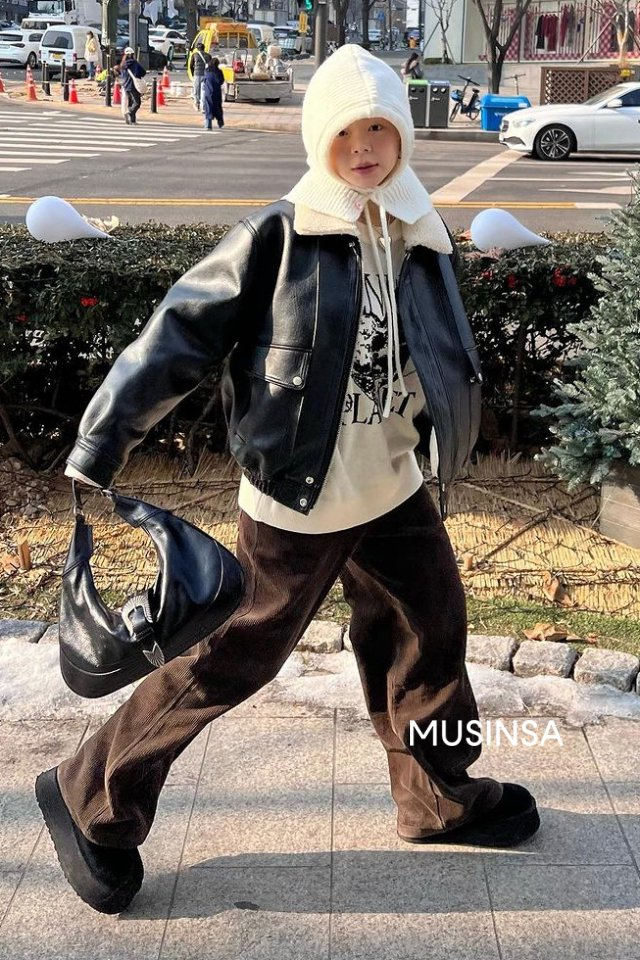Handbag: (40, 459, 249, 684)
Hat: (279, 48, 438, 225)
Jacket: (56, 192, 516, 520)
Pants: (61, 497, 510, 842)
Shoes: (27, 757, 550, 916)
